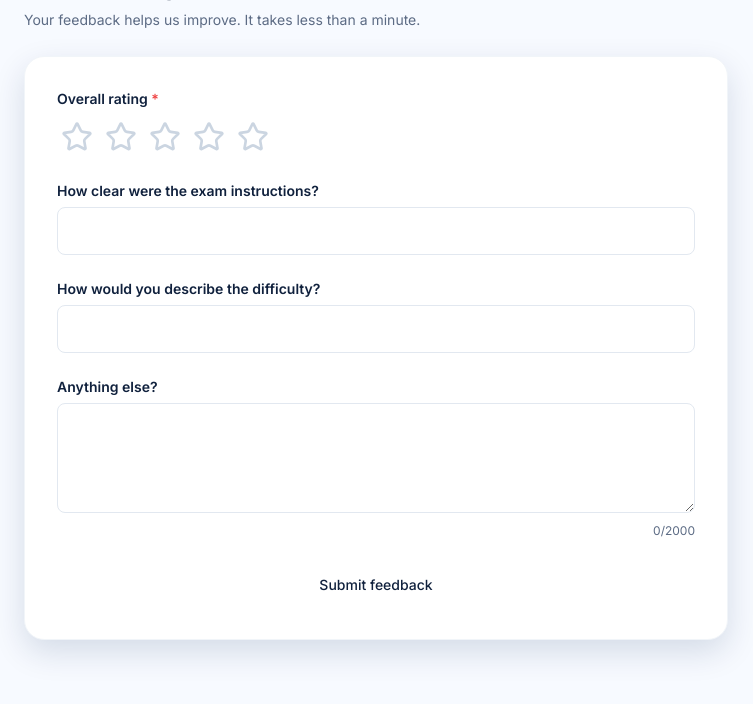
Scenario: Feedback (US6) › requires a rating
The image size is (753, 704).
(page scrolled)
Click the button "Submit feedback" at (376, 585), box [57,563,695,607]
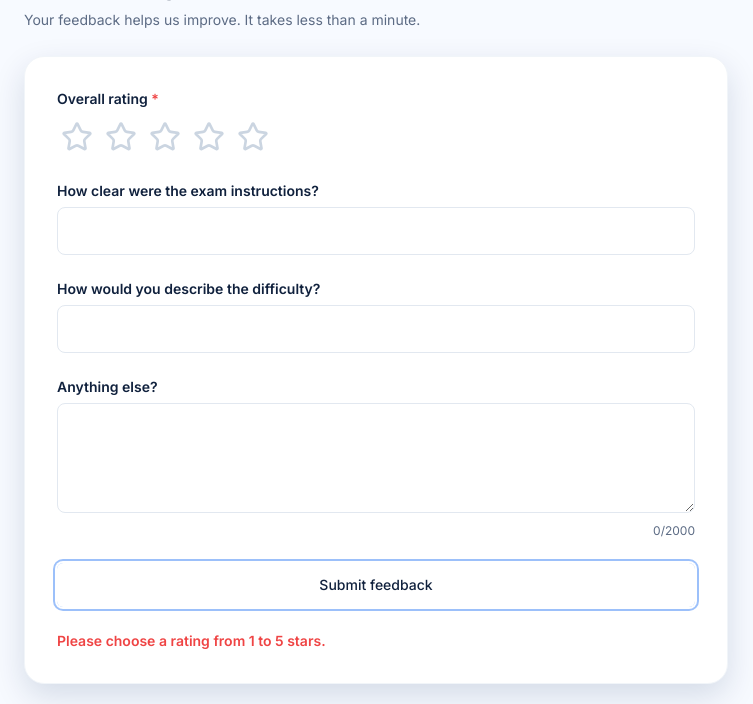
Expected: the message shows "Please choose a rating", [57,632,326,649]
